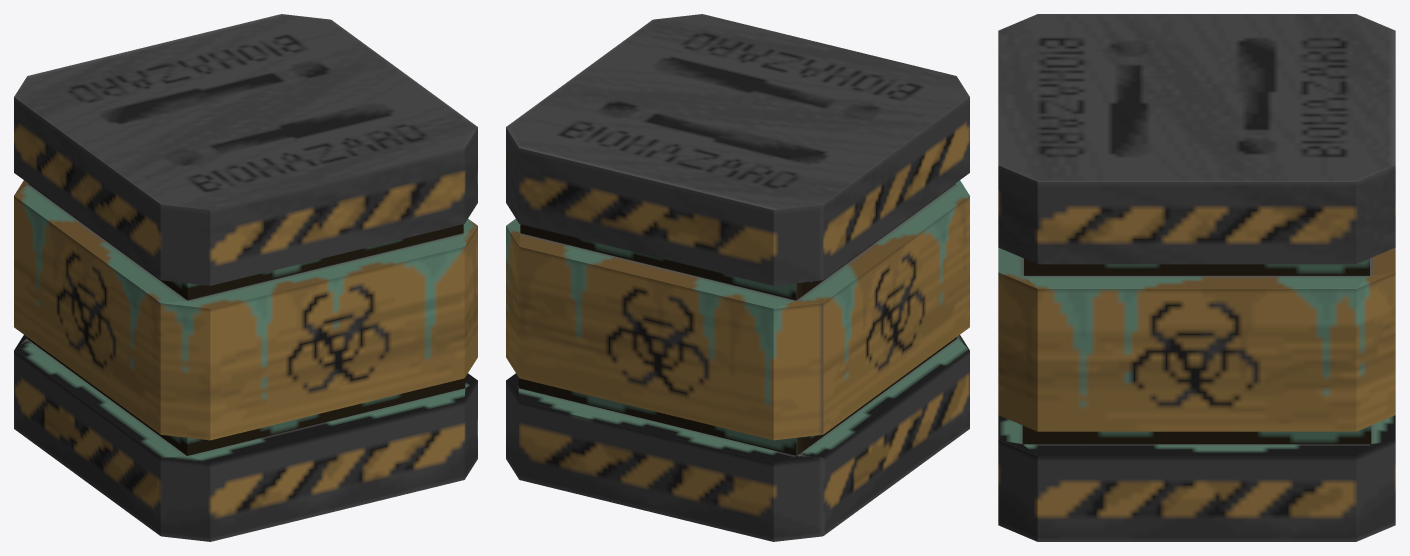
Rendered from obj_crate.fbx.
The picture shows the model from 3 angles, left to right: view 1: azimuth 30°, elevation 25°; view 2: azimuth 150°, elevation 25°; view 3: azimuth 270°, elevation 25°; orthographic projection. The views are drawn at different scales.
Visible parts, largest first — view 1: obj_crate; view 2: obj_crate; view 3: obj_crate.
Boxes of the visible parts, box(x1,y1,x2,y2) form: obj_crate: box(14, 14, 477, 541); obj_crate: box(506, 14, 969, 541); obj_crate: box(998, 14, 1395, 541).
Bounding box in the file's own units: 96.04 × 96.04 × 96.04.
